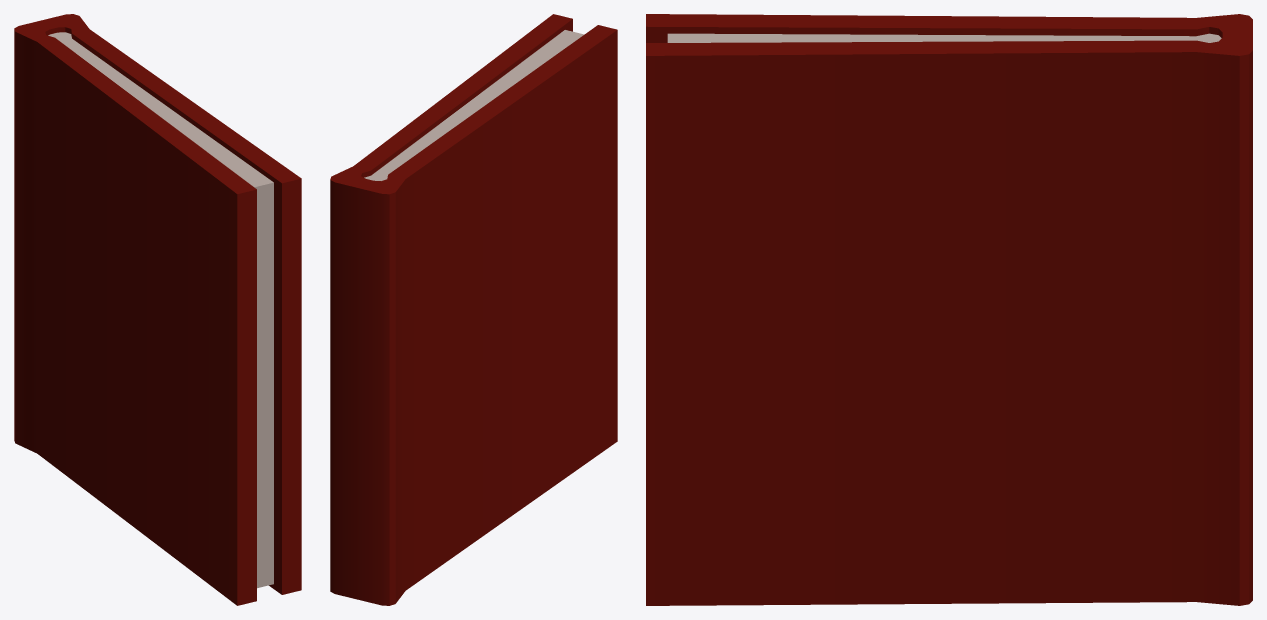
Rendered from Book_Thin.fbx.
3 views of the same model, side by side, from view 1: azimuth 30°, elevation 25°; view 2: azimuth 150°, elevation 25°; view 3: azimuth 270°, elevation 25° (orthographic). The views are drawn at different scales.
Parts seen in each view (by area): view 1: BookThin; view 2: BookThin; view 3: BookThin.
Part boxes in pixels (box(x1,y1,x2,y2)): BookThin: box(14, 14, 301, 605); BookThin: box(330, 14, 617, 605); BookThin: box(646, 14, 1252, 605).
Bounding box in the file's own units: 0.0818 × 0.5 × 0.5.
